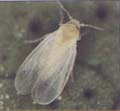whitefly: (15, 3, 101, 105)
